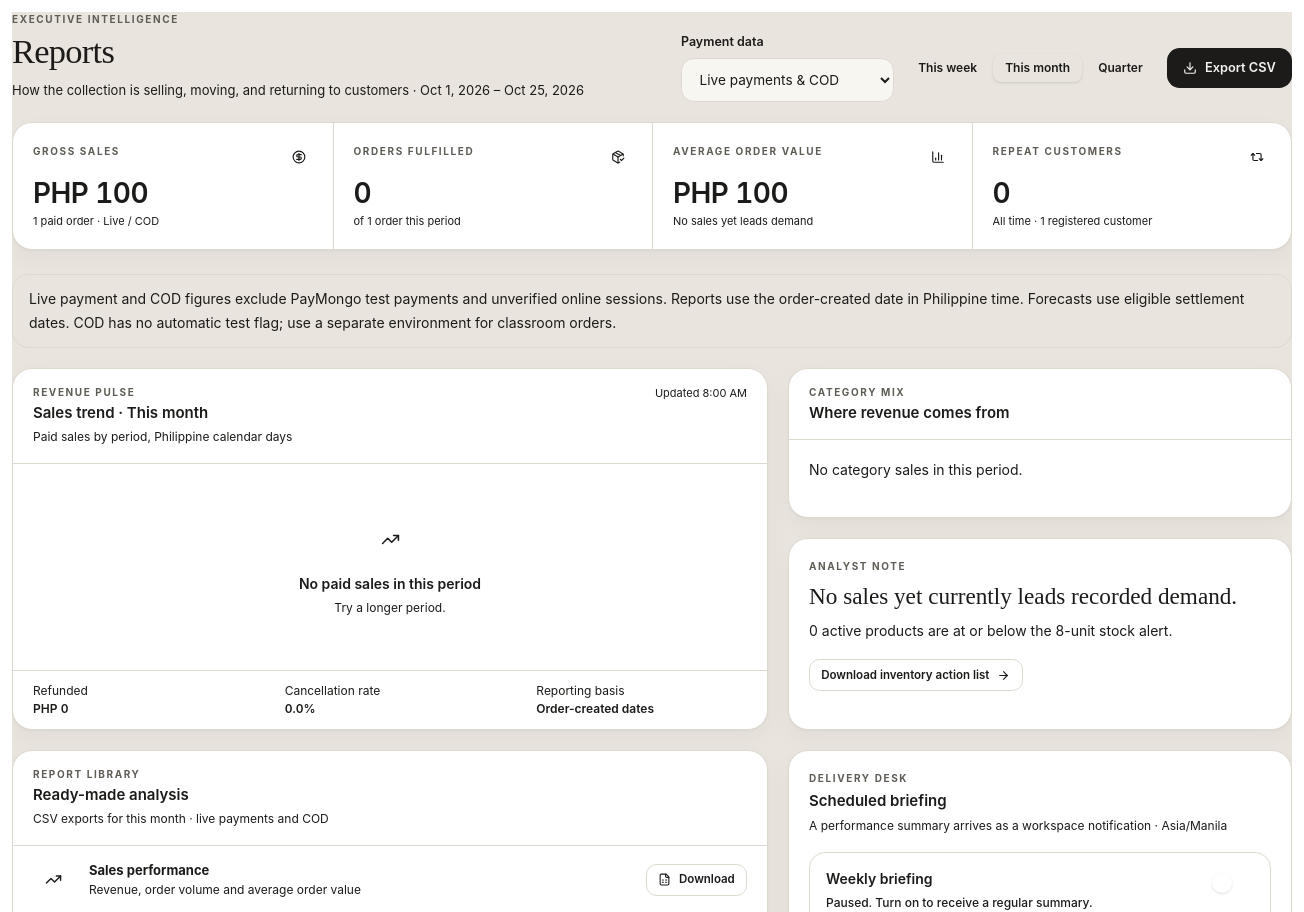
Test case: report environment controls › defaults to live/COD, explicitly switches to test and labels the difference
The image size is (1304, 912).
Select "PayMongo test payments" in the dropdown labelled "Payment data". click: (788, 80)
box: [681,58,894,102]
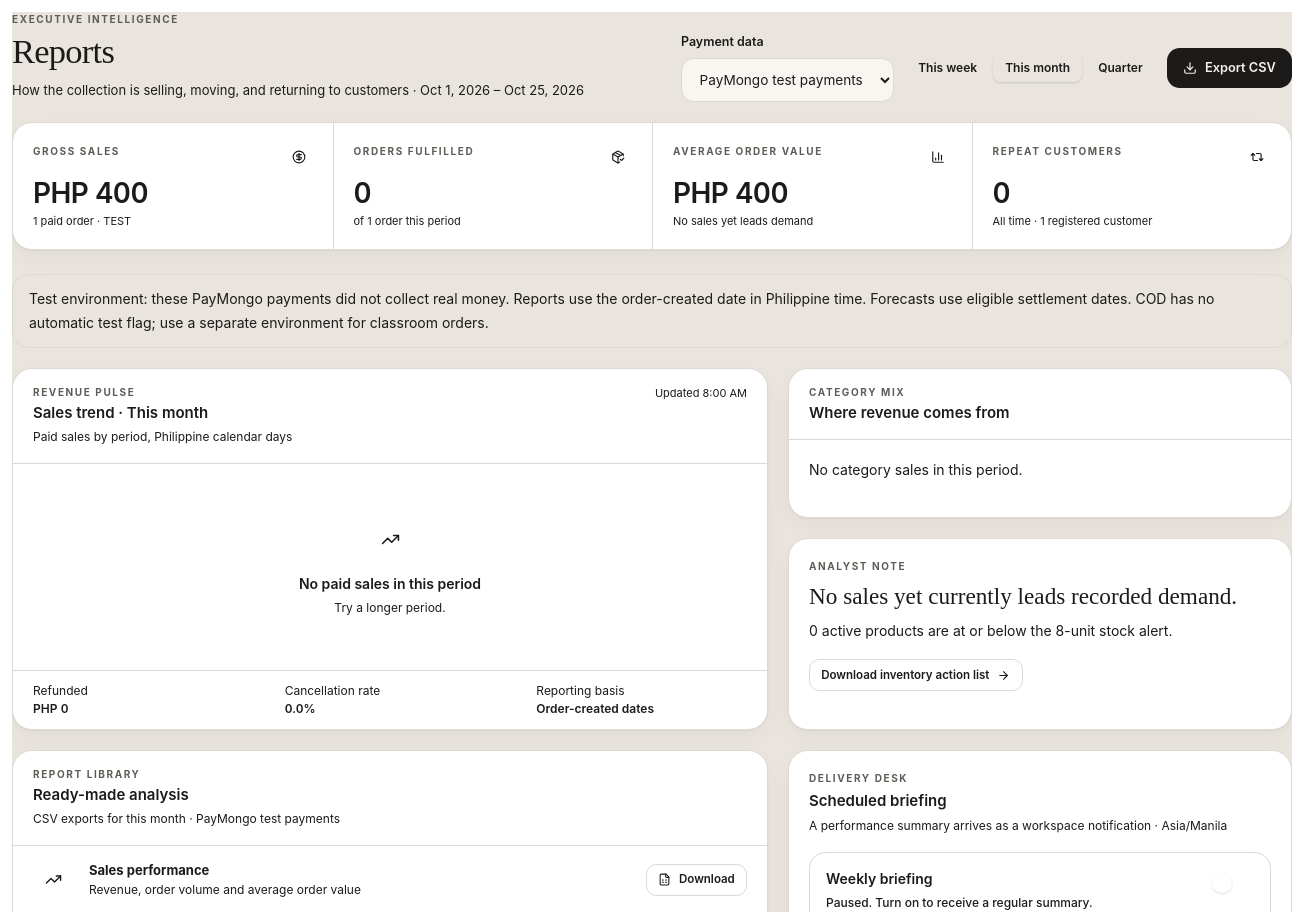
Expected: the text "order-created date" is shown, [29,290,1214,331]
Expected: the text "did not collect real money" is shown, [29,290,510,307]
